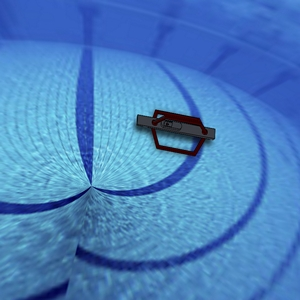submarine: (123, 88, 226, 177)
